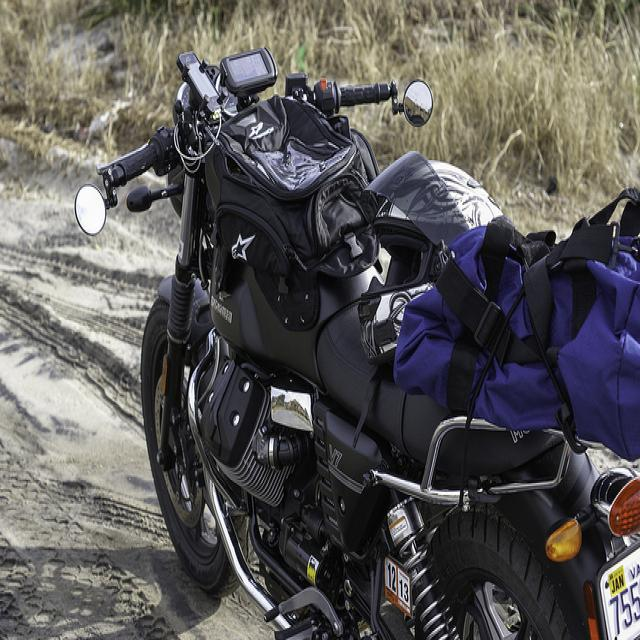motor: (73, 40, 640, 640), (351, 148, 535, 384)
